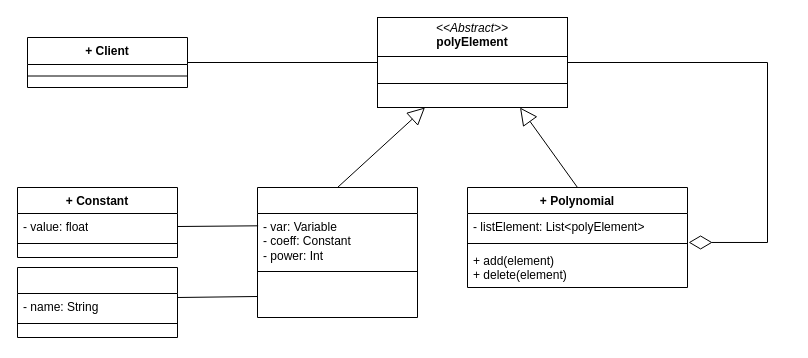
This 808x358 diagram has some shape labels left out. Each missing label, with the box of its shape:
+ Monomial: (256, 186, 418, 318)
+ Variable: (16, 266, 178, 338)
